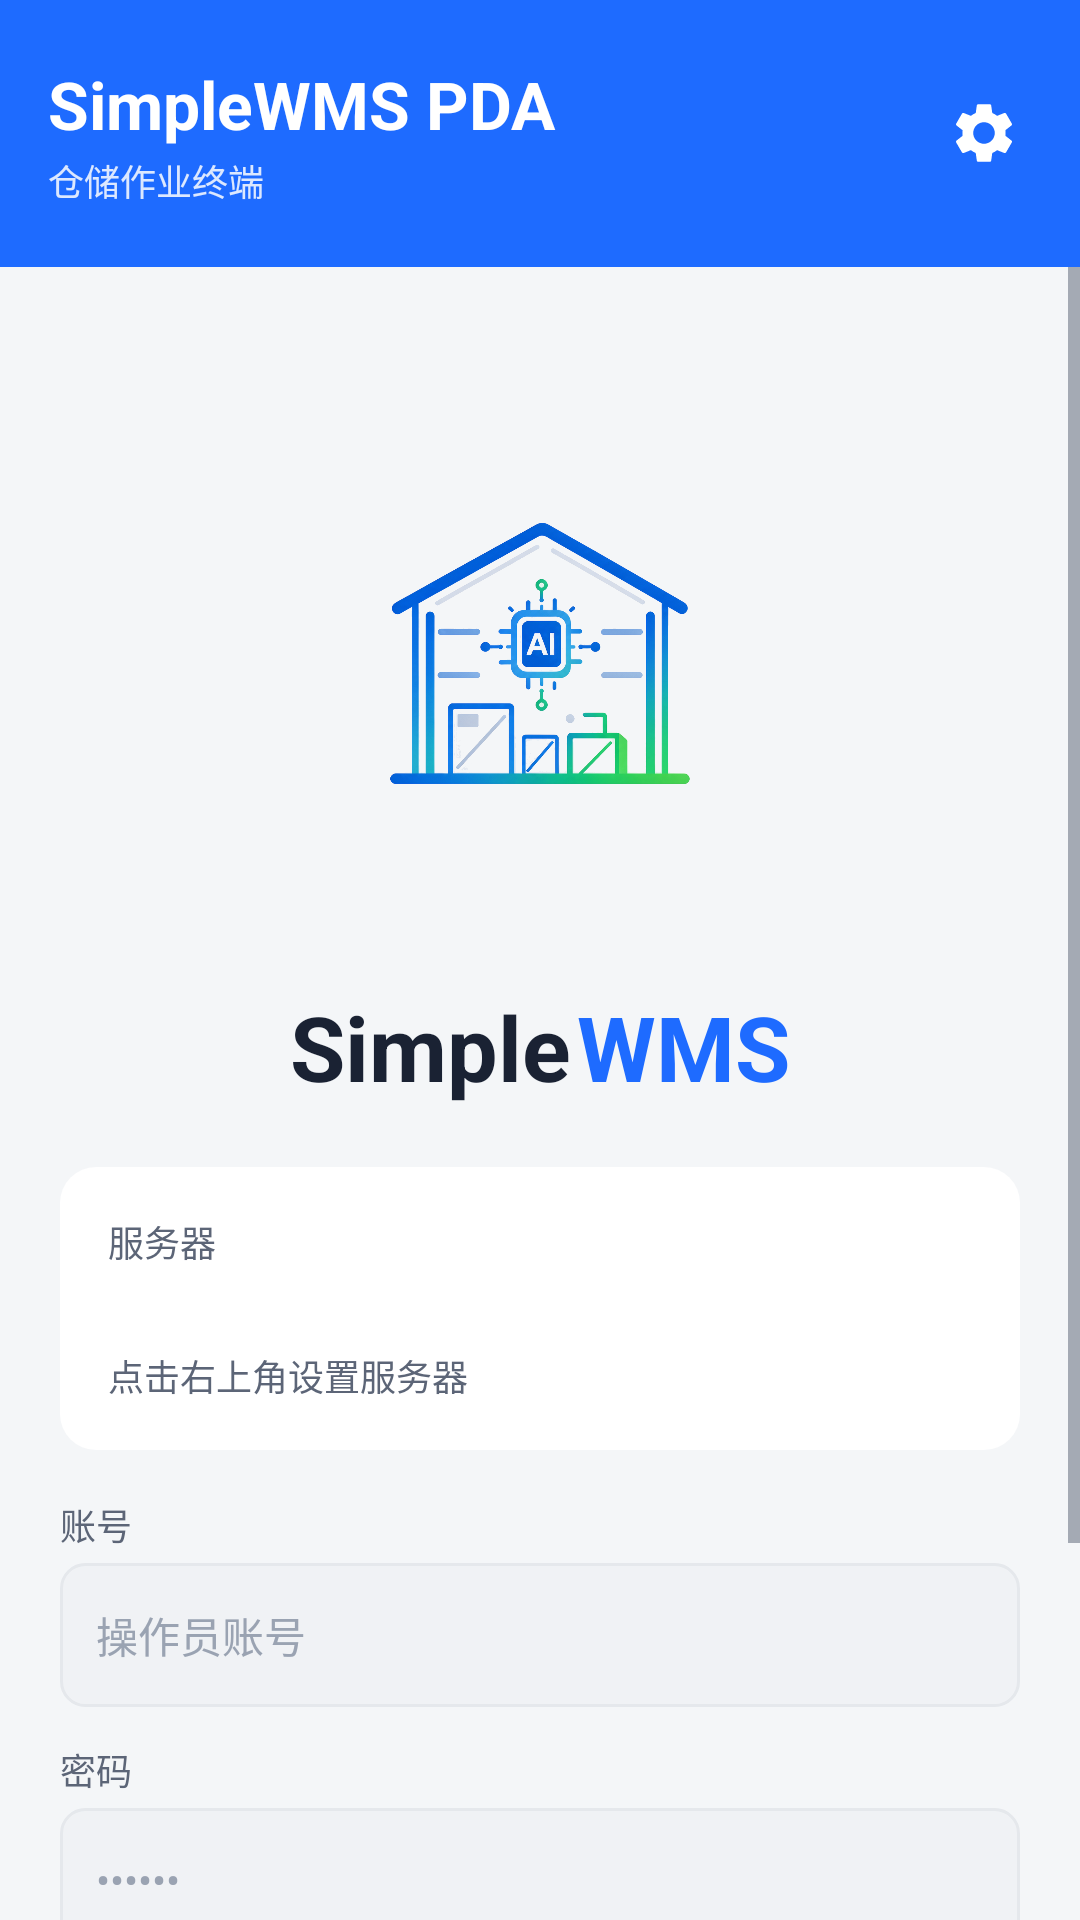

Where to tap for icons on this 1080px×1920px app screen, as (x=x, y=y):
设置: (x=984, y=133)
